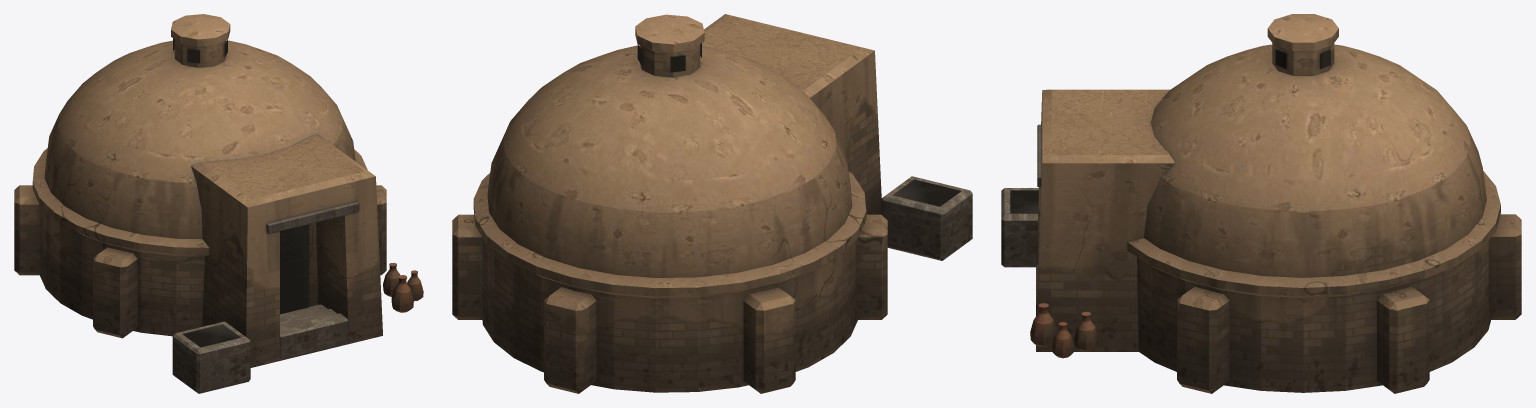
Rendered from oh_cistern.glb.
3 views of the same model, side by side, from view 1: azimuth 30°, elevation 25°; view 2: azimuth 150°, elevation 25°; view 3: azimuth 270°, elevation 25° (orthographic). The views are drawn at different scales.
Visible parts, largest first — view 1: oh_cistern; view 2: oh_cistern; view 3: oh_cistern.
Boxes of the visible parts, x1,y1,x2,y2 form: oh_cistern: [14, 14, 423, 393]; oh_cistern: [452, 14, 972, 393]; oh_cistern: [1001, 14, 1521, 393].
Size of the model in its own units: 5.1 by 4.13 by 6.72.
1 material, 1 textured.
